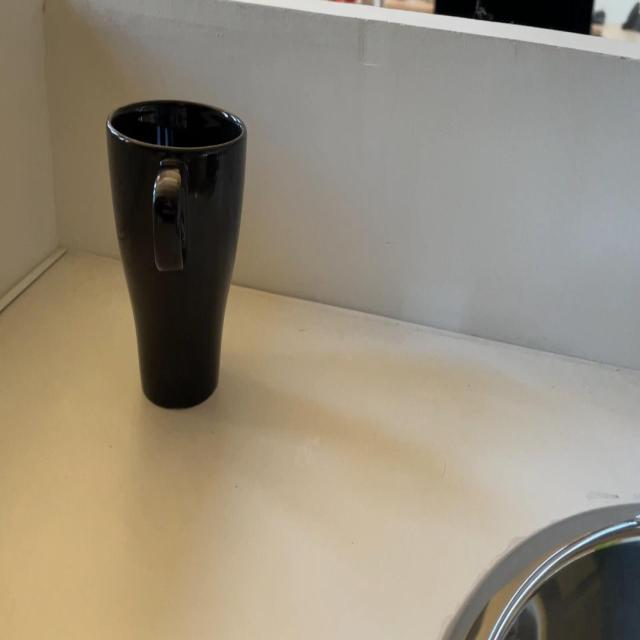cup: (103, 96, 249, 417)
